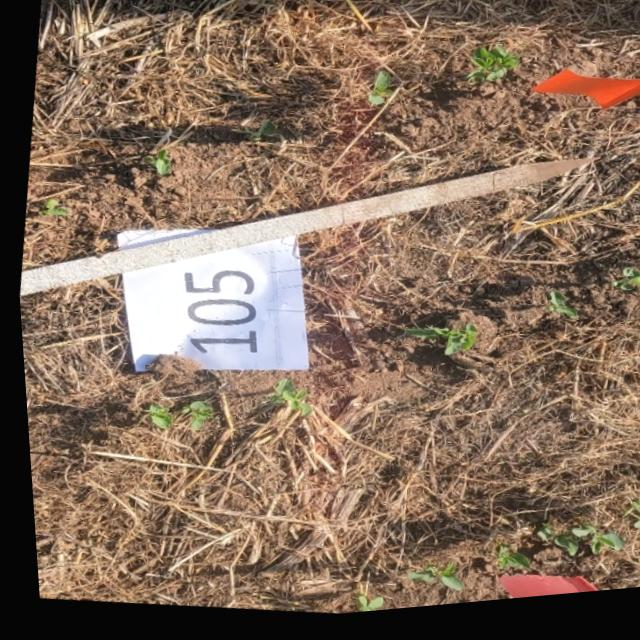soy_plant: (529, 532, 615, 565), (400, 332, 472, 362), (465, 55, 518, 90), (264, 383, 305, 420), (400, 571, 454, 597), (176, 403, 207, 433), (366, 77, 391, 111), (489, 553, 522, 577), (544, 300, 572, 327), (607, 279, 640, 301), (243, 124, 275, 145), (143, 152, 169, 177), (620, 506, 639, 540), (144, 405, 166, 431), (37, 197, 65, 217), (351, 600, 375, 618)
